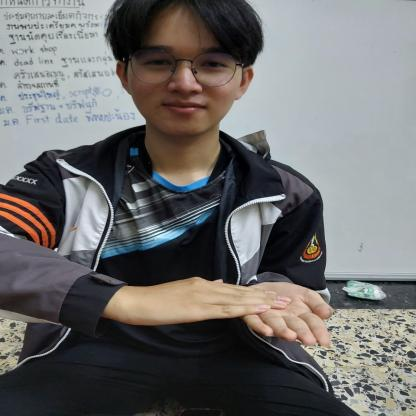Sorry: (131, 271, 339, 356)
